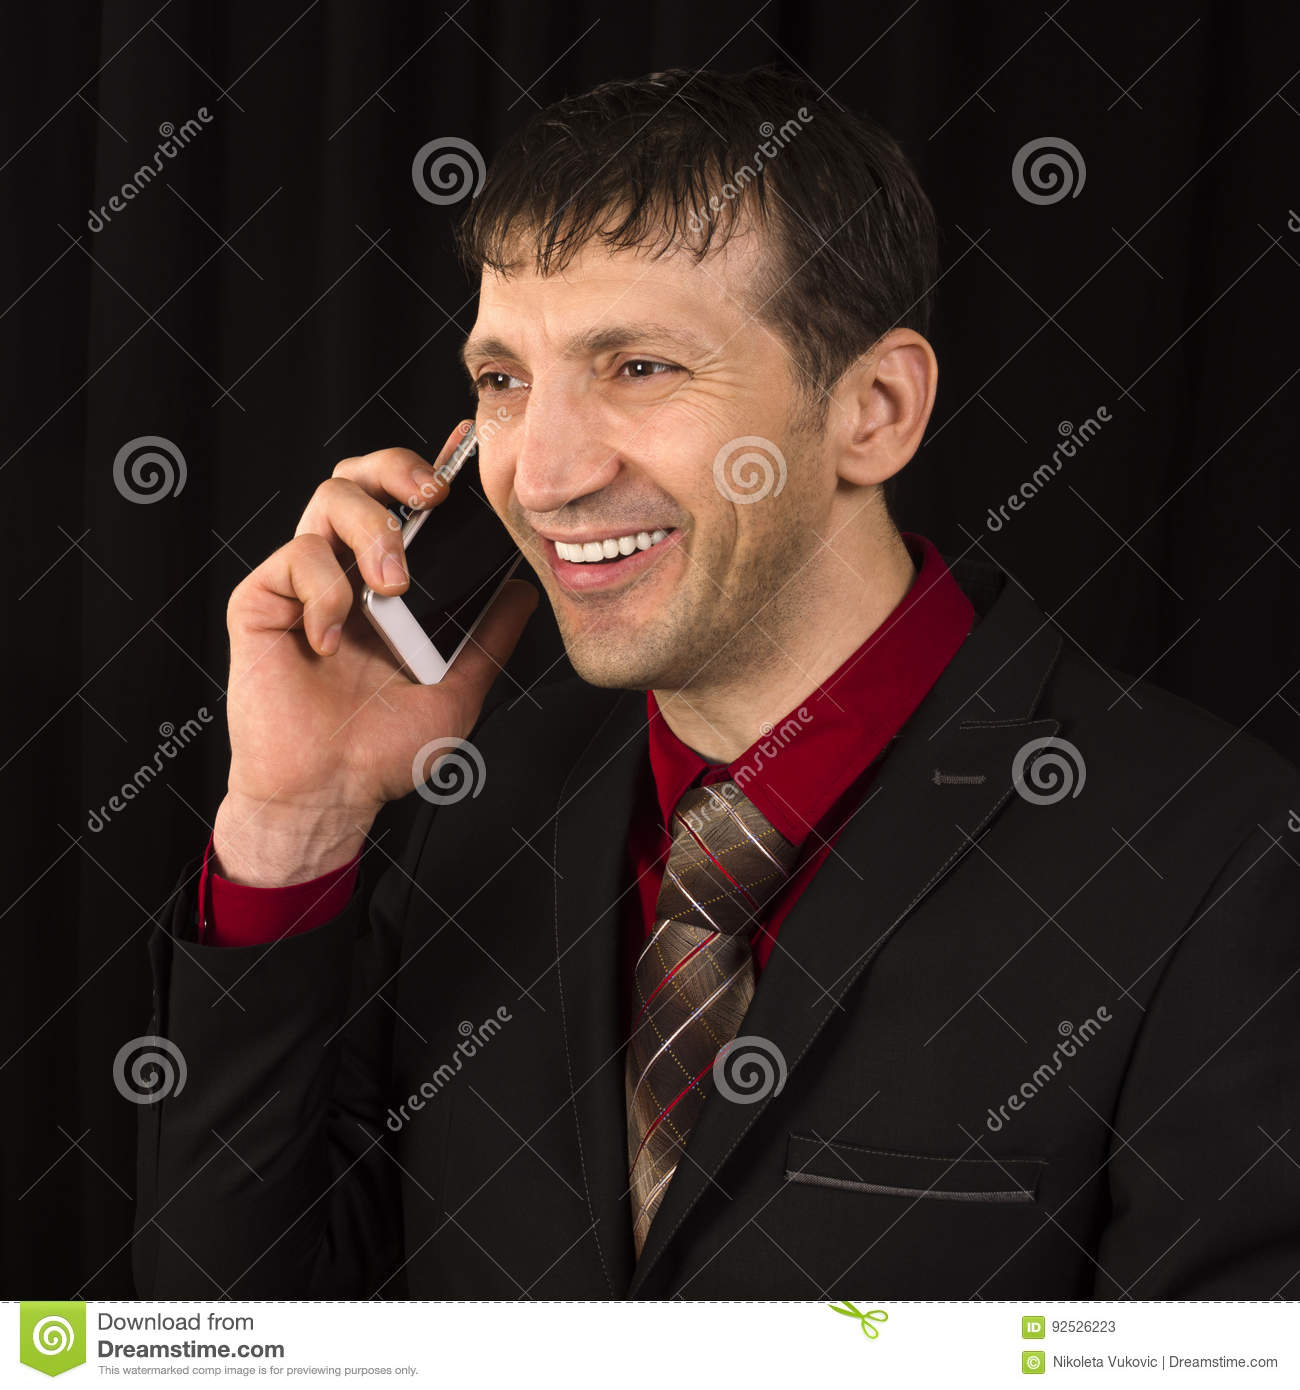phone: (358, 428, 511, 686)
talk: (215, 299, 745, 834)
